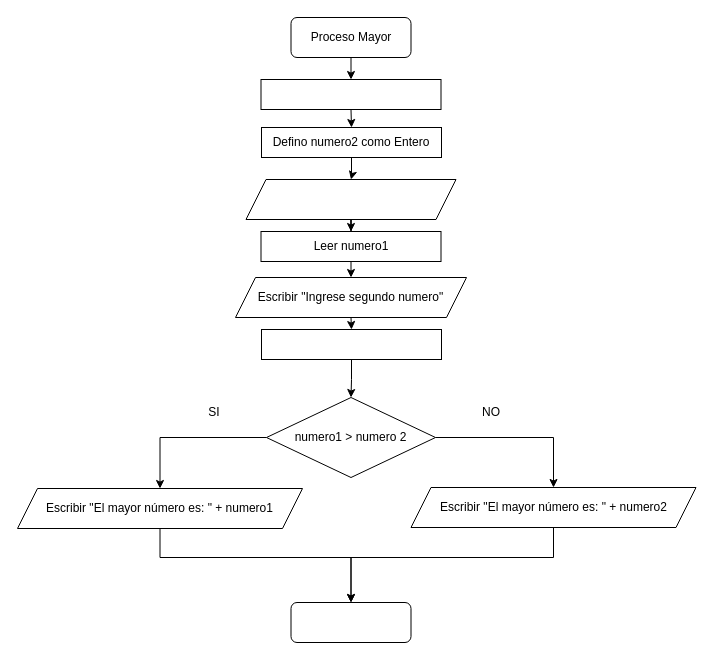
This 714x660 diagram has some shape labels left out. The shapes that lost their labels are listed below. From the top down, each one's centre as x and y in pixels, then its label:
(350,94): Defino numero1 como Entero
(350,199): Escribir "Ingrese primer numero"
(351,344): Leer numero2
(350,622): Fin Proceso
